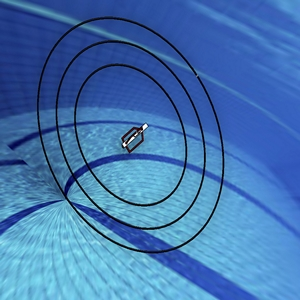circle: (28, 6, 244, 261)
submarine: (119, 120, 155, 161)
